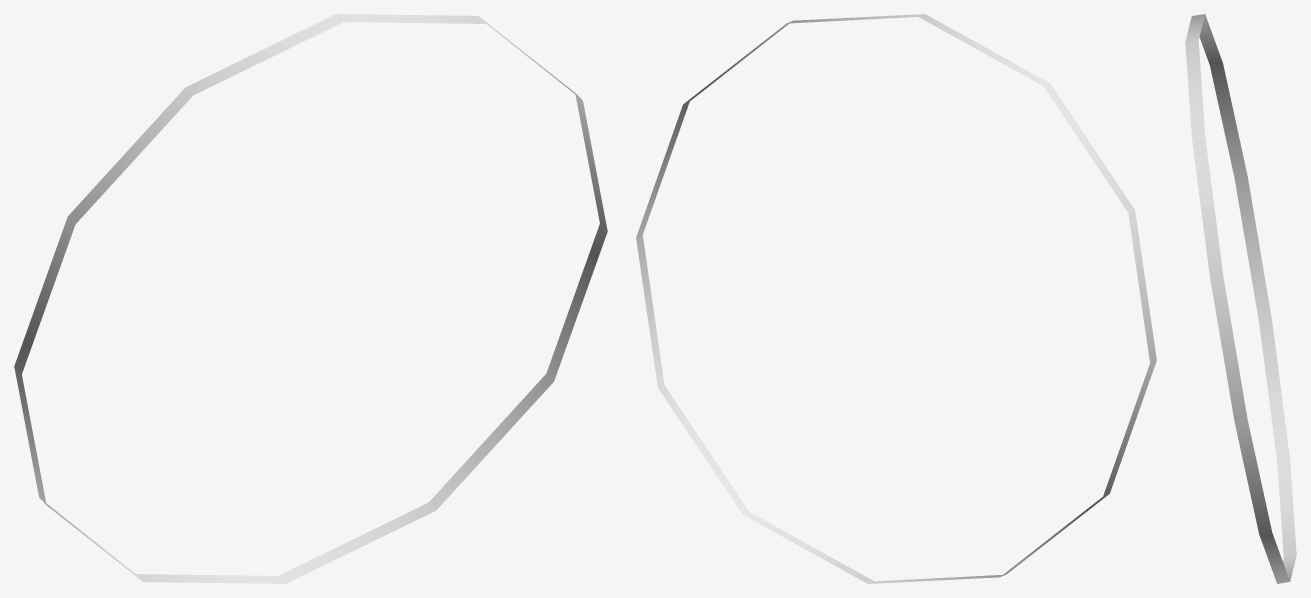
Rendered from luminairearm_truss10ft_c6.obj.
3 views of the same model, side by side, from view 1: azimuth 30°, elevation 25°; view 2: azimuth 150°, elevation 25°; view 3: azimuth 270°, elevation 25° (orthographic). The views are drawn at different scales.
Parts seen in each view (by area): view 1: luminairearm_truss10ft_c6; view 2: luminairearm_truss10ft_c6; view 3: luminairearm_truss10ft_c6.
Boxes of the visible parts, <box> form: luminairearm_truss10ft_c6: <box>14,14,607,583</box>; luminairearm_truss10ft_c6: <box>636,14,1156,583</box>; luminairearm_truss10ft_c6: <box>1185,14,1296,583</box>.
Size of the model in its own units: 0.1875 by 0.1855 by 0.0362.
